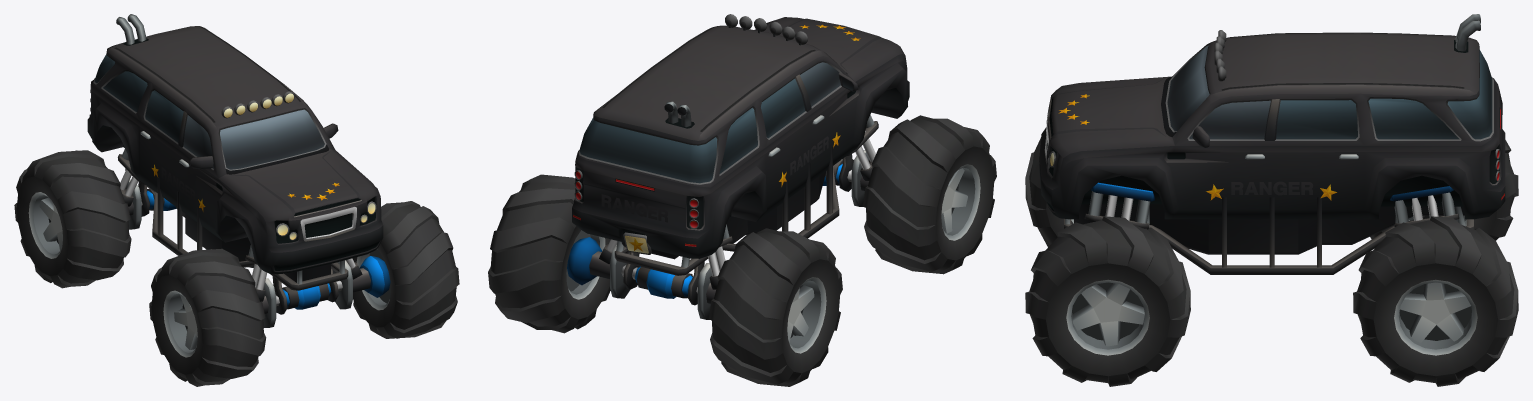
File: Monster_Truck_11A.fbx
The picture shows the model from 3 angles, left to right: view 1: azimuth 30°, elevation 25°; view 2: azimuth 150°, elevation 25°; view 3: azimuth 270°, elevation 25°; orthographic projection. The views are drawn at different scales.
Parts seen in each view (by area): view 1: Monster_Truck_11A_Body, Wheel_11A_F.R, Wheel_11A_R.R, Wheel_11A_F.L, Monster_Truck_11A_Suspension_F.L, Monster_Truck_11A_Suspension_R.R, Monster_Truck_11A_Suspension_F.R, Monster_Truck_11A_Livery; view 2: Monster_Truck_11A_Body, Wheel_11A_F.R, Wheel_11A_R.R, Wheel_11A_R.L, Monster_Truck_11A_Suspension_R.L, Monster_Truck_11A_Livery, Monster_Truck_11A_Suspension_F.R, Monster_Truck_11A_Suspension_R.R; view 3: Monster_Truck_11A_Body, Wheel_11A_R.L, Wheel_11A_F.L, Monster_Truck_11A_Suspension_F.L, Wheel_11A_F.R, Monster_Truck_11A_Suspension_R.L, Wheel_11A_R.R, Monster_Truck_11A_Livery.
Boxes of the visible parts, x1,y1,x2,y2 form: Monster_Truck_11A_Body: (87, 14, 383, 314); Wheel_11A_F.R: (149, 248, 266, 386); Wheel_11A_R.R: (14, 150, 131, 288); Wheel_11A_F.L: (352, 201, 459, 338); Monster_Truck_11A_Suspension_F.L: (332, 256, 390, 309); Monster_Truck_11A_Suspension_R.R: (117, 149, 145, 229); Monster_Truck_11A_Suspension_F.R: (245, 245, 276, 327); Monster_Truck_11A_Livery: (151, 164, 339, 211); Monster_Truck_11A_Body: (572, 14, 909, 305); Wheel_11A_F.R: (863, 115, 996, 274); Wheel_11A_R.R: (709, 228, 842, 386); Wheel_11A_R.L: (488, 174, 610, 333); Monster_Truck_11A_Suspension_R.L: (567, 237, 629, 298); Monster_Truck_11A_Livery: (601, 24, 860, 251); Monster_Truck_11A_Suspension_F.R: (847, 115, 878, 207); Monster_Truck_11A_Suspension_R.R: (697, 224, 732, 319); Monster_Truck_11A_Body: (1039, 14, 1505, 274); Wheel_11A_R.L: (1353, 216, 1518, 386); Wheel_11A_F.L: (1025, 216, 1190, 386); Monster_Truck_11A_Suspension_F.L: (1084, 182, 1154, 228); Wheel_11A_F.R: (1025, 138, 1073, 246); Monster_Truck_11A_Suspension_R.L: (1390, 186, 1459, 226); Wheel_11A_R.R: (1370, 140, 1518, 240); Monster_Truck_11A_Livery: (1058, 94, 1336, 200).
Bounding box in the file's own units: 518 × 456 × 715.
